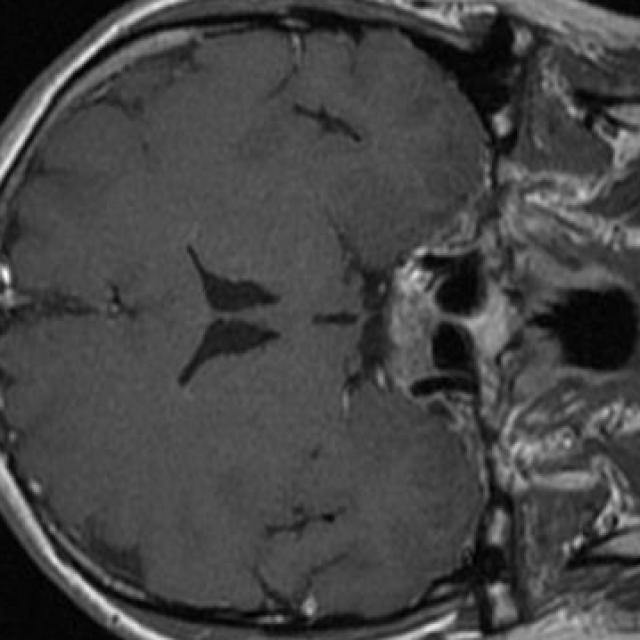pituitary: (390, 258, 437, 389)
